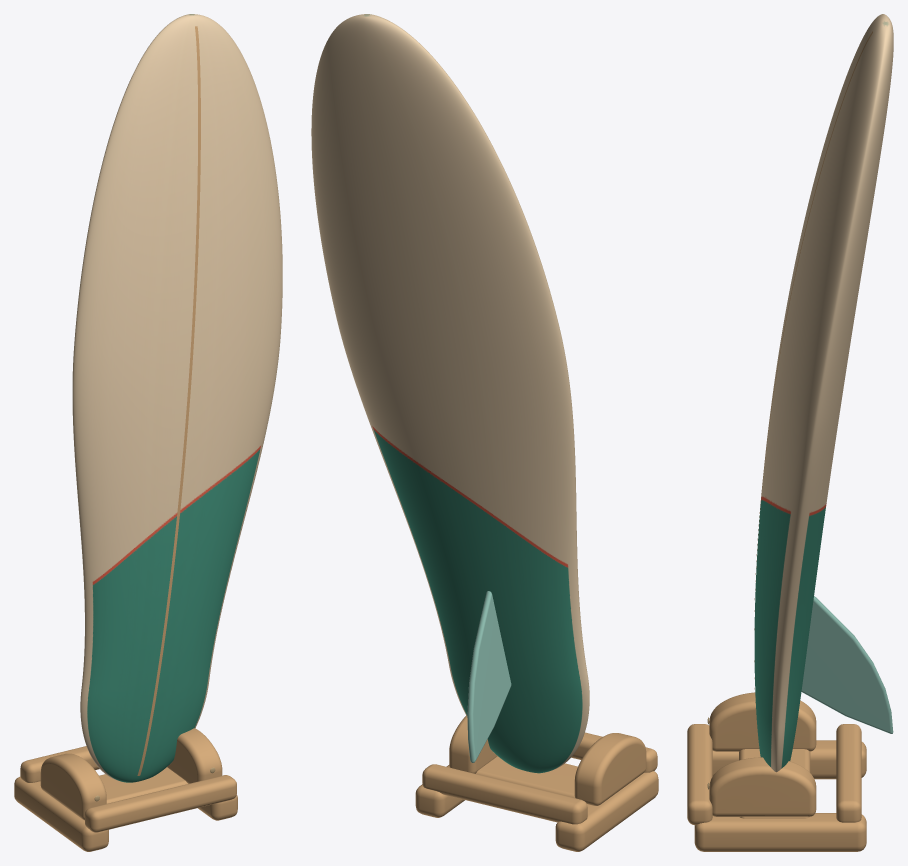
Rendered from surfboard-v7.fbx.
The picture shows the model from 3 angles, left to right: view 1: azimuth 30°, elevation 25°; view 2: azimuth 150°, elevation 25°; view 3: azimuth 270°, elevation 25°; orthographic projection. The views are drawn at different scales.
Parts seen in each view (by area): view 1: Surfboard | shaped core and rails, Stand | front cradle, Stand | left cheek, Stand | left foot, Surfboard | timber stringer, Stand | right cheek, Stand | tail saddle, Stand | back cradle, Stand | right foot; view 2: Surfboard | shaped core and rails, Stand | back cradle, Surfboard | swept rear fin, Stand | left cheek, Stand | left foot, Stand | tail saddle, Stand | right cheek, Stand | right foot; view 3: Surfboard | shaped core and rails, Surfboard | swept rear fin, Stand | right foot, Stand | right cheek, Stand | left cheek, Stand | back cradle, Stand | front cradle, Stand | left foot, Stand | tail saddle, Surfboard | timber stringer.
Part boxes in pixels (box(x1,y1,x2,y2)): Surfboard | shaped core and rails: box(72, 14, 282, 782); Stand | front cradle: box(85, 775, 236, 832); Stand | left cheek: box(40, 753, 106, 820); Stand | left foot: box(14, 776, 108, 851); Surfboard | timber stringer: box(137, 26, 200, 775); Stand | right cheek: box(167, 728, 222, 783); Stand | tail saddle: box(99, 767, 187, 803); Stand | back cradle: box(20, 746, 99, 782); Stand | right foot: box(198, 794, 237, 820); Surfboard | shaped core and rails: box(311, 14, 589, 773); Stand | back cradle: box(422, 764, 587, 824); Surfboard | swept rear fin: box(467, 591, 511, 762); Stand | left cheek: box(574, 733, 646, 805); Stand | left foot: box(555, 771, 658, 851); Stand | tail saddle: box(475, 756, 577, 797); Stand | right cheek: box(449, 715, 497, 773); Stand | right foot: box(415, 765, 464, 817); Surfboard | shaped core and rails: box(754, 14, 893, 772); Surfboard | swept rear fin: box(801, 596, 893, 733); Stand | right foot: box(694, 813, 866, 851); Stand | right cheek: box(709, 757, 816, 816); Stand | left cheek: box(709, 692, 816, 751); Stand | back cradle: box(836, 724, 861, 822); Stand | front cradle: box(687, 724, 712, 825); Stand | left foot: box(712, 740, 866, 779); Stand | tail saddle: box(739, 749, 810, 818); Surfboard | timber stringer: box(754, 31, 872, 743).
Size of the model in its own units: 57.79 by 158 by 34.81.
4 materials, 1 textured.
